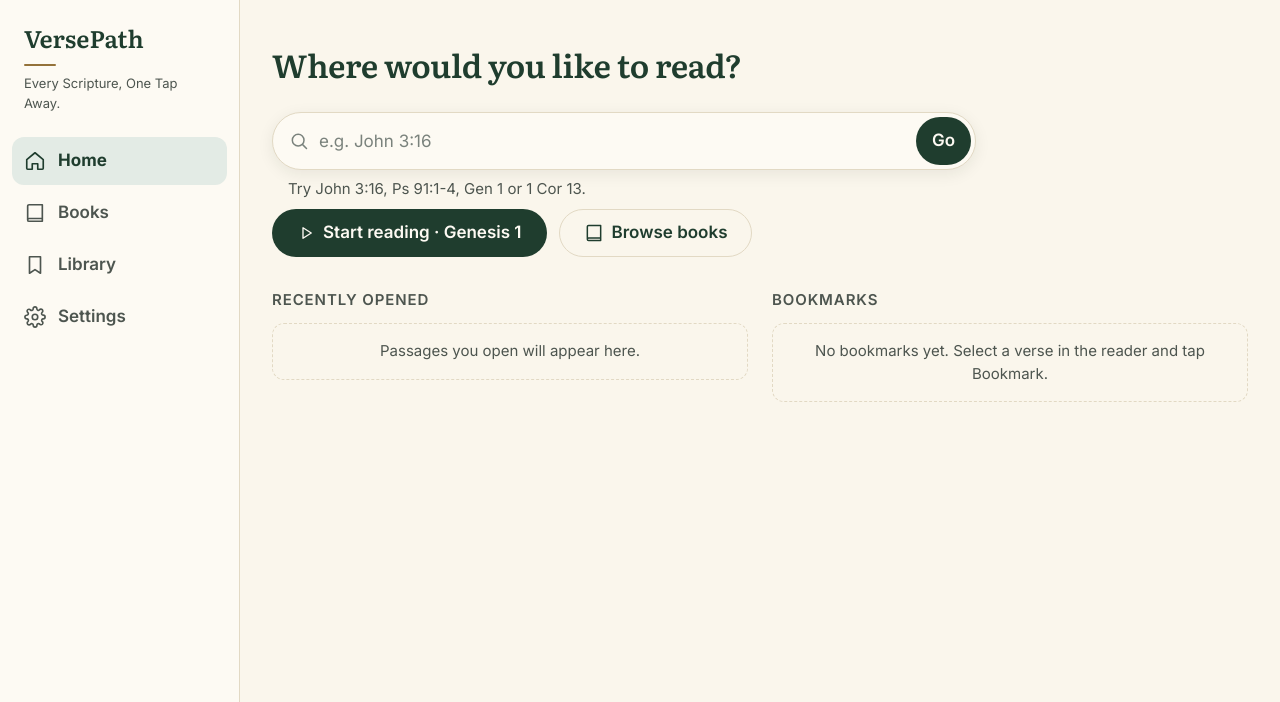
bookmarks › bookmarks a verse from the reader, lists it in the Library and reopens it
Type "John 3:16" into the search field named "bible reference".
click(612, 141); type("John 3:16")  # box [317, 117, 908, 165]
Then press Enter
(page scrolled)
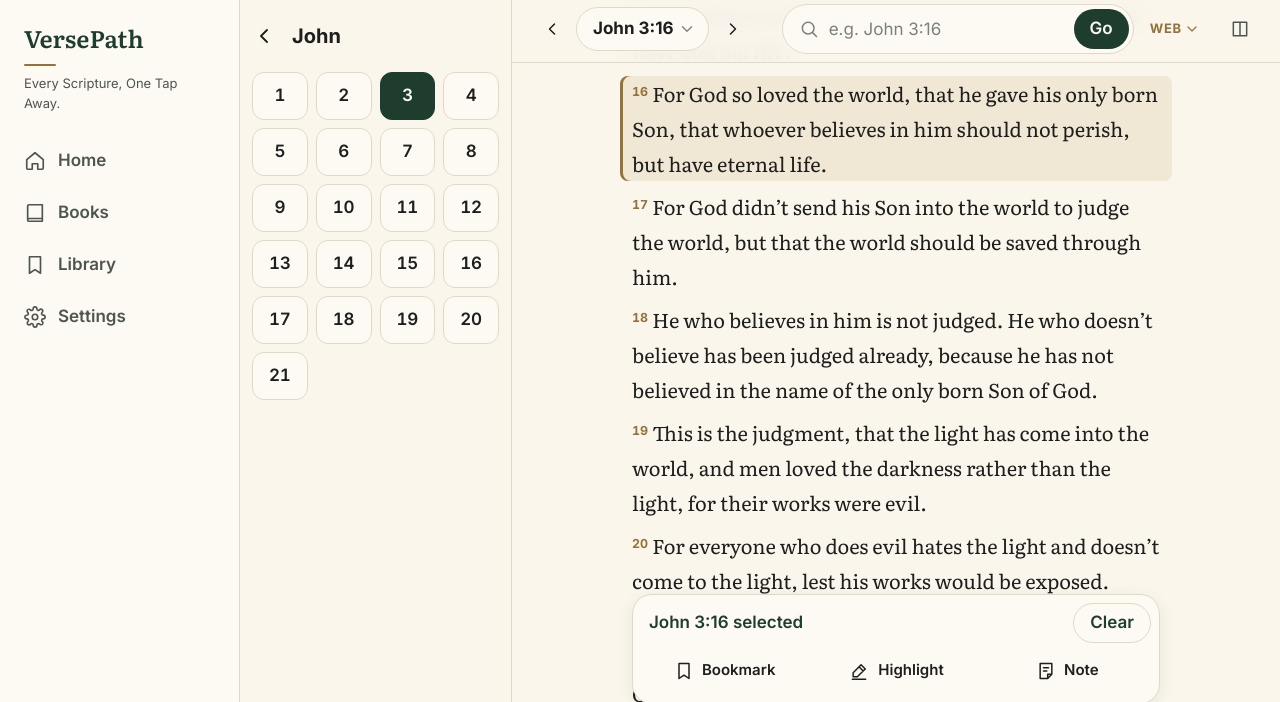
Click the button "Bookmark".
click(725, 671)  # box [641, 647, 808, 695]
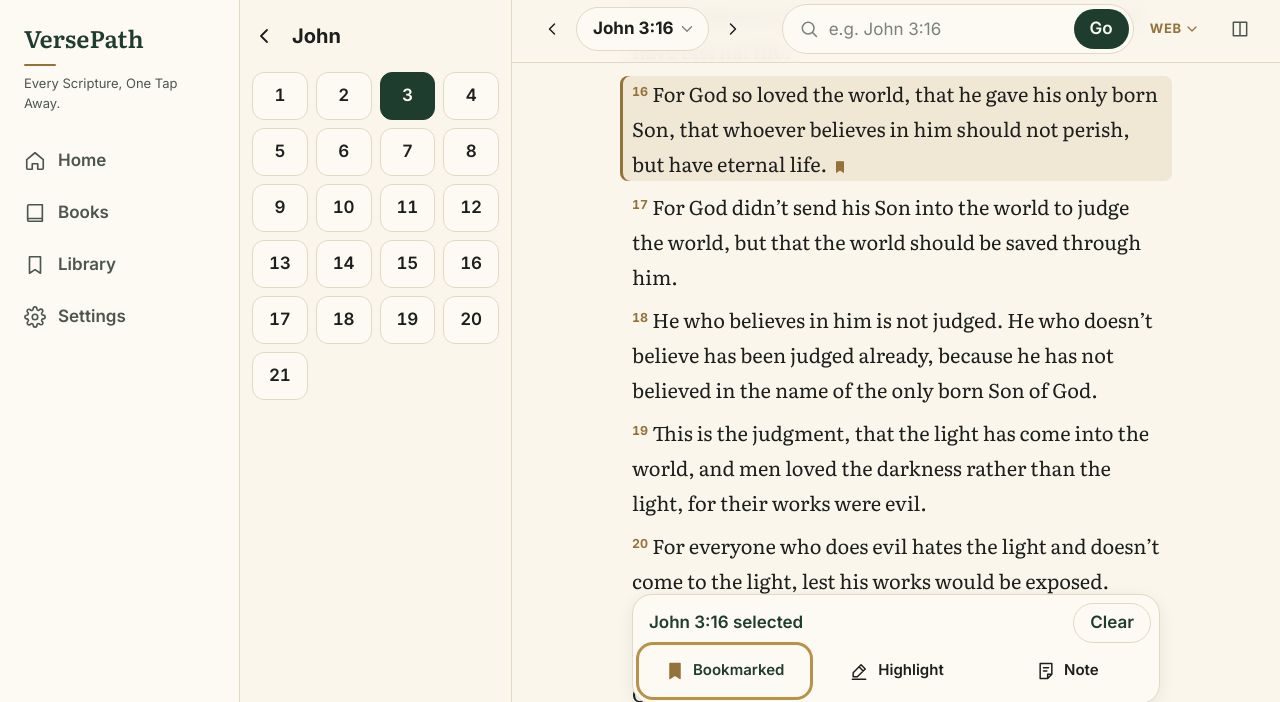
expect the button "Bookmarked" is pressed: met, box [641, 647, 808, 695]
Click the button "Library".
click(120, 265)  # box [12, 241, 227, 289]
(page scrolled)
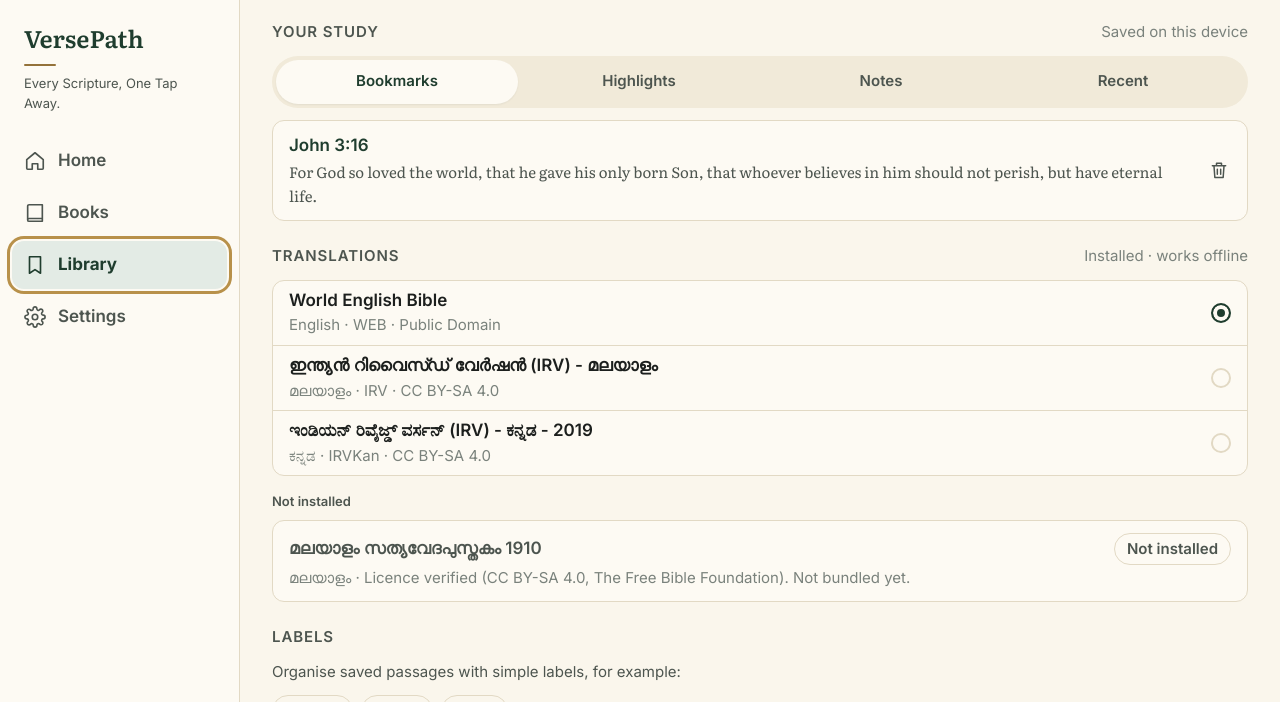
Click the tab "Bookmarks".
click(397, 82)  # box [276, 60, 518, 104]
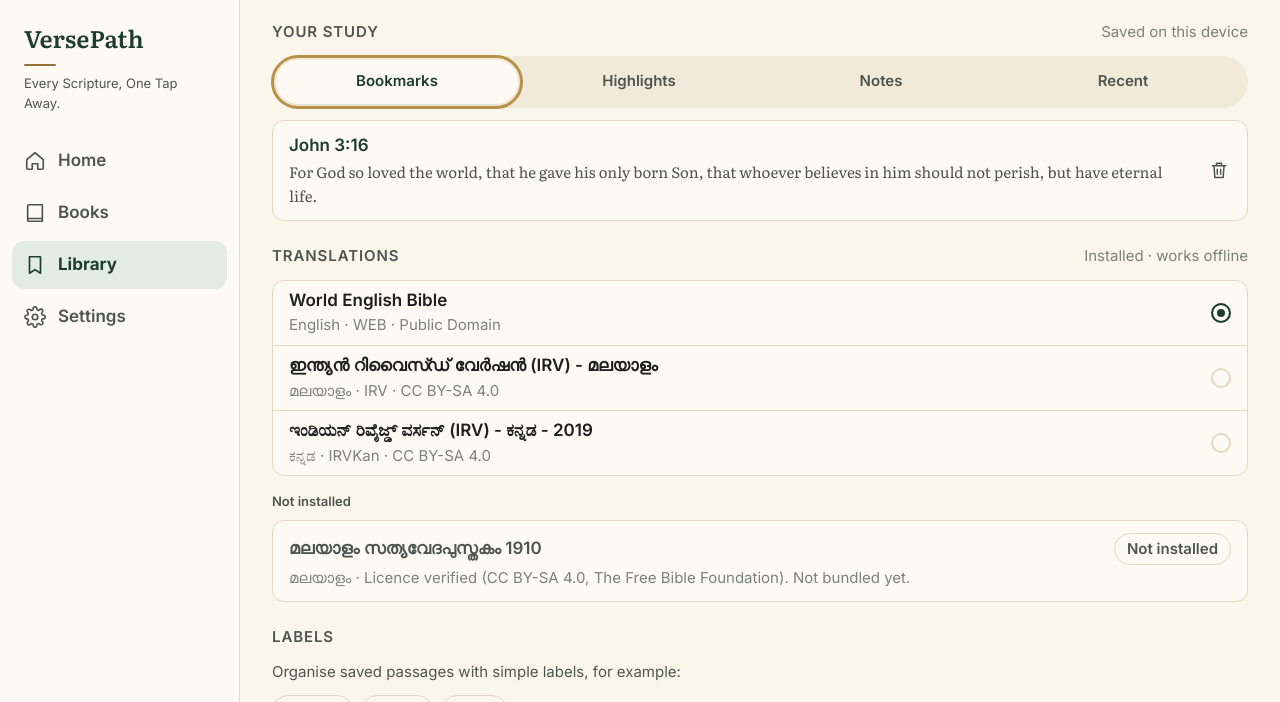
expect the button "John 3:16" shows "For God so loved the world": met
Click the button "John 3:16".
click(734, 170)  # box [273, 120, 1195, 220]
(page scrolled)
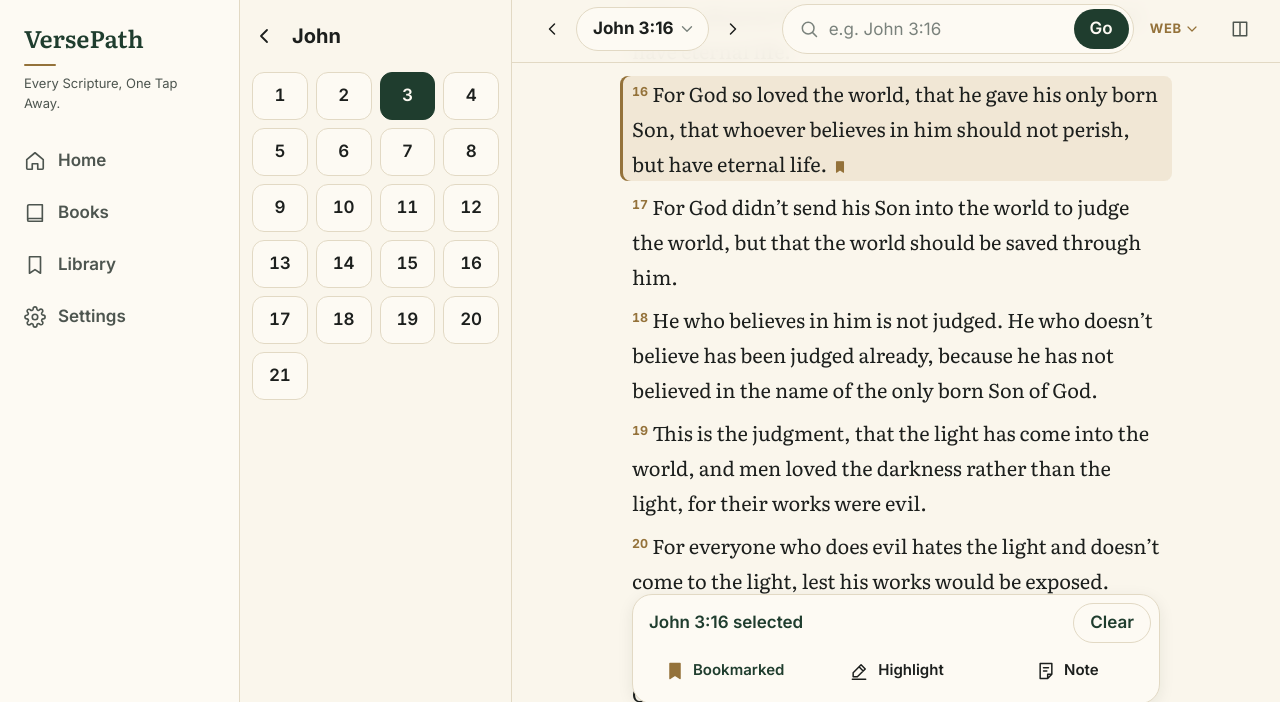
expect the button "Bookmarked" is shown: met, box [641, 647, 808, 695]
